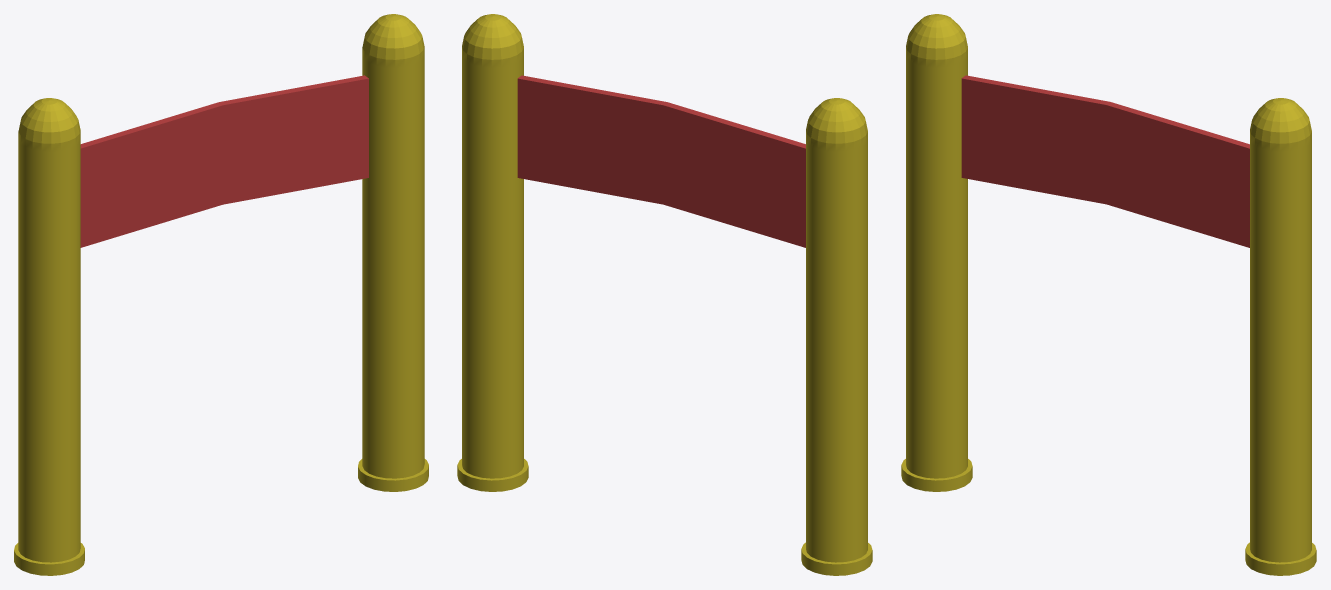
File: goal.fbx
3 renders of one model, left to right at view 1: azimuth 30°, elevation 25°; view 2: azimuth 150°, elevation 25°; view 3: azimuth 330°, elevation 25°, orthographic.
Visible parts, largest first — view 1: pole, goal; view 2: pole, goal; view 3: pole, goal.
Boxes of the visible parts, x1,y1,x2,y2 form: pole: (14,14,428,575); goal: (80,75,368,247); pole: (457,14,872,575); goal: (517,75,805,247); pole: (901,14,1316,575); goal: (961,75,1249,247).
Bounding box in the file's own units: 134 × 146 × 20.16.
